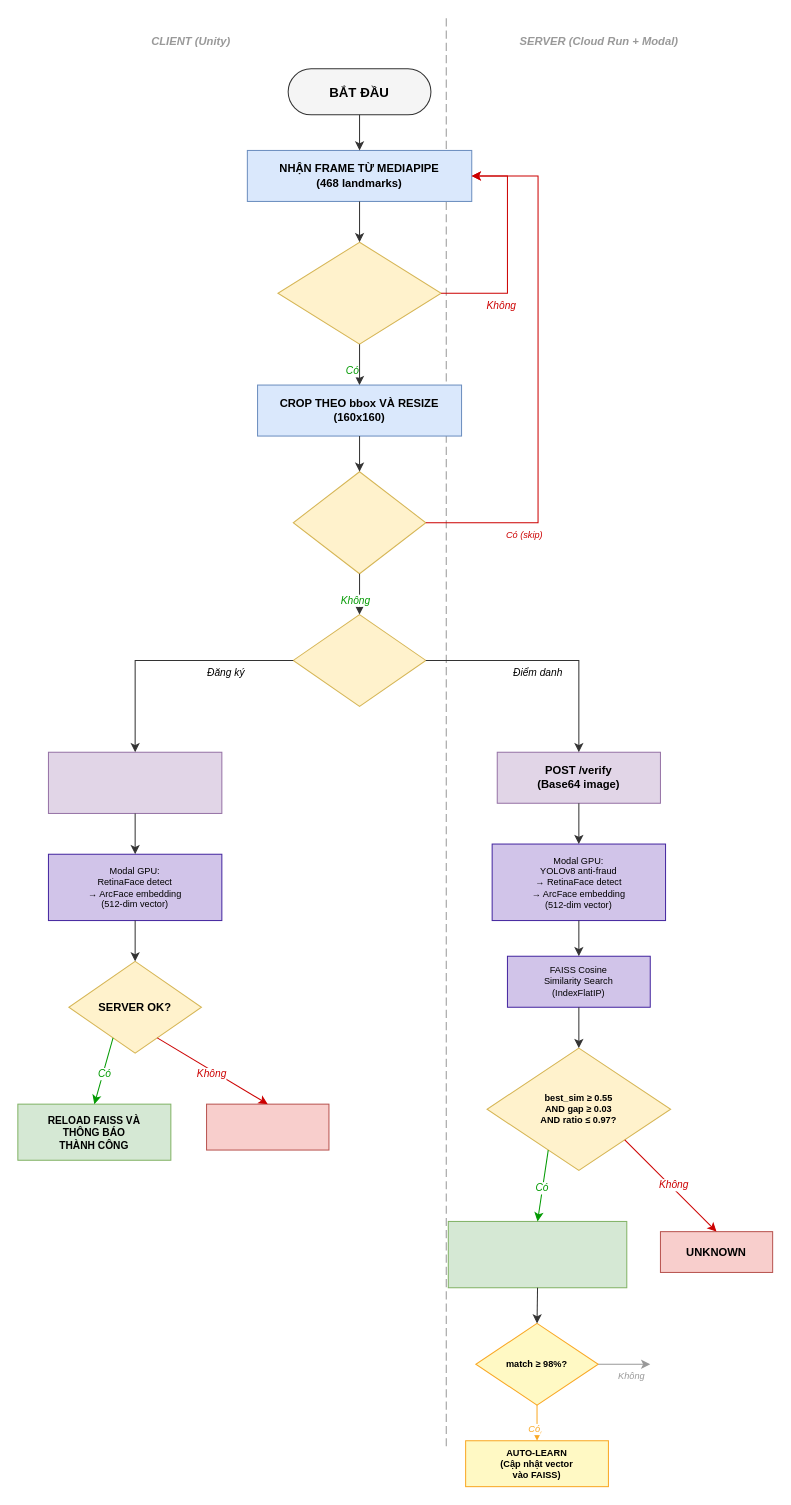
Some shapes in this 791 by 1505 pixel diagram are drawn without their labels. Each missing label, with the centre of its shape:
"CHẾ ĐỘ?" goes at [359,660].
"CÓ PHÁT HIỆN MẶT?" goes at [359,292].
"IoU > 0.5? (Trùng face đã gửi?)" goes at [359,522].
"NHẬN DIỆN THÀNH CÔNG VÀ COOLDOWN (Log attendance → Firestore)" goes at [537,1254].
"POST /register KÈM TÊN VÀ MSSV (Base64 image)" goes at [134,782].
"THÔNG BÁO LỖI" goes at [267,1126].
